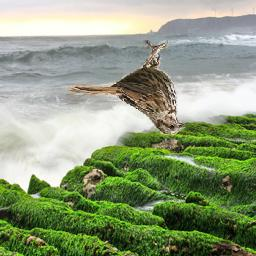Sparrow: (69, 41, 185, 136)
